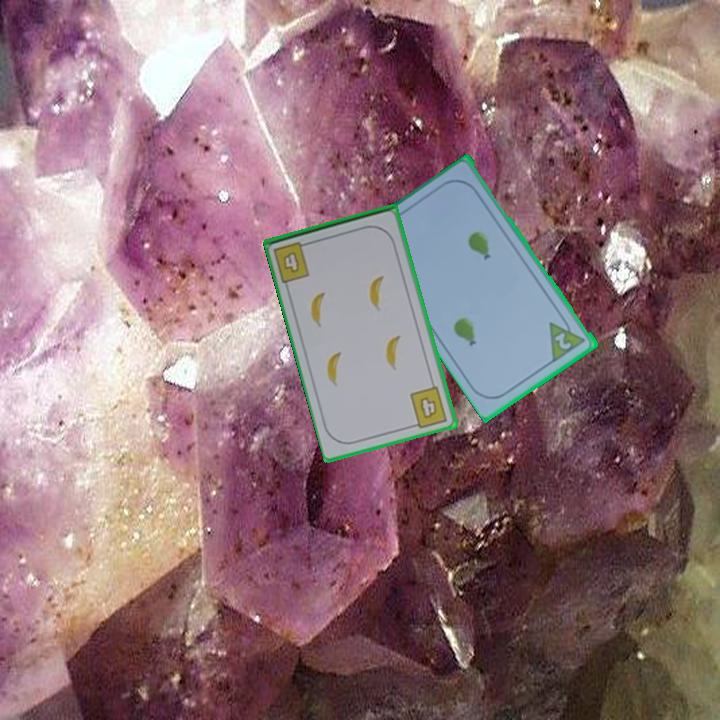2p: (551, 329, 575, 353)
4b: (270, 238, 314, 285), (407, 383, 450, 431)
